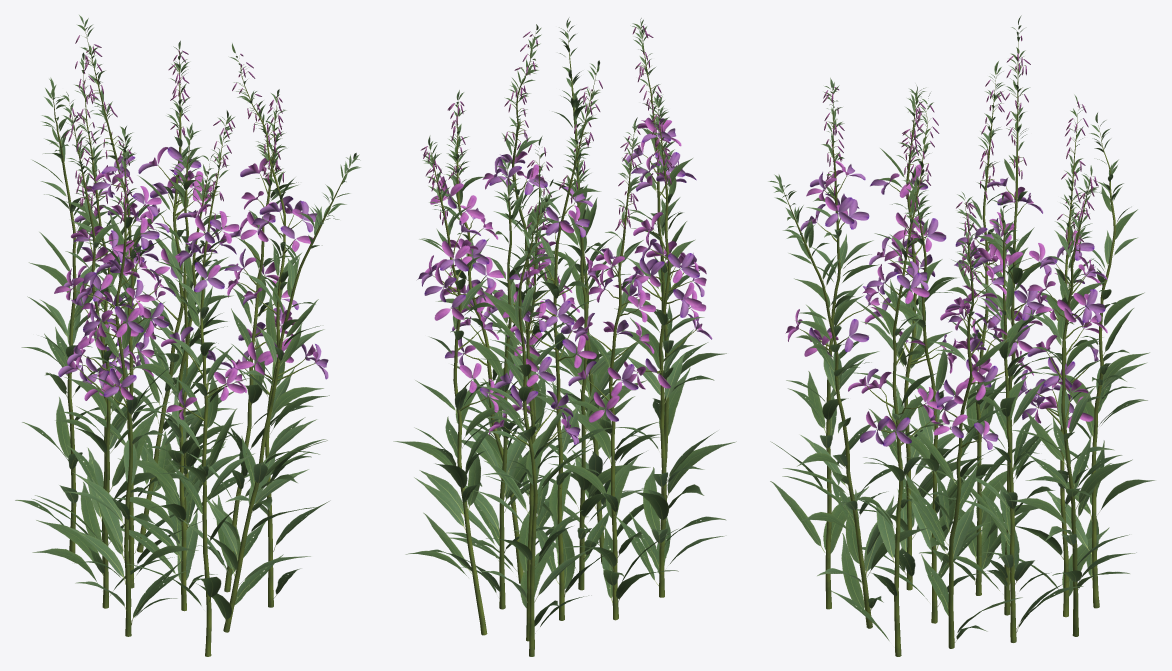
Rendered from fireweed.glb.
3 renders of one model, left to right at view 1: azimuth 30°, elevation 25°; view 2: azimuth 150°, elevation 25°; view 3: azimuth 270°, elevation 25°, orthographic.
Parts seen in each view (by area): view 1: Leaf3_EpilobiumAngustifolium_Mat.004, Stem_EpilobiumAngustifolium_Mat.004, Leaf2_EpilobiumAngustifolium_Mat.004, Leaf1_EpilobiumAngustifolium_Mat.004, Petal1_EpilobiumAngustifolium_Mat.003, Petal2_EpilobiumAngustifolium_Mat.003, Blossom_EpilobiumAngustifolium_Mat.003; view 2: Leaf3_EpilobiumAngustifolium_Mat.004, Stem_EpilobiumAngustifolium_Mat.004, Leaf1_EpilobiumAngustifolium_Mat.004, Leaf2_EpilobiumAngustifolium_Mat.004, Petal1_EpilobiumAngustifolium_Mat.003, Petal2_EpilobiumAngustifolium_Mat.003, Blossom_EpilobiumAngustifolium_Mat.003; view 3: Leaf3_EpilobiumAngustifolium_Mat.004, Stem_EpilobiumAngustifolium_Mat.004, Leaf1_EpilobiumAngustifolium_Mat.004, Leaf2_EpilobiumAngustifolium_Mat.004, Petal2_EpilobiumAngustifolium_Mat.003, Petal1_EpilobiumAngustifolium_Mat.003, Blossom_EpilobiumAngustifolium_Mat.003.
Part boxes in pixels (<box>): Leaf3_EpilobiumAngustifolium_Mat.004: <box>27,25,359,623</box>; Stem_EpilobiumAngustifolium_Mat.004: <box>52,26,352,656</box>; Leaf2_EpilobiumAngustifolium_Mat.004: <box>40,15,360,610</box>; Leaf1_EpilobiumAngustifolium_Mat.004: <box>15,24,360,625</box>; Petal1_EpilobiumAngustifolium_Mat.003: <box>54,147,318,419</box>; Petal2_EpilobiumAngustifolium_Mat.003: <box>58,147,328,406</box>; Blossom_EpilobiumAngustifolium_Mat.003: <box>64,35,283,229</box>; Leaf3_EpilobiumAngustifolium_Mat.004: <box>393,23,736,626</box>; Stem_EpilobiumAngustifolium_Mat.004: <box>429,26,696,656</box>; Leaf1_EpilobiumAngustifolium_Mat.004: <box>414,19,726,633</box>; Leaf2_EpilobiumAngustifolium_Mat.004: <box>414,17,724,602</box>; Petal1_EpilobiumAngustifolium_Mat.003: <box>425,117,706,435</box>; Petal2_EpilobiumAngustifolium_Mat.003: <box>417,118,712,444</box>; Blossom_EpilobiumAngustifolium_Mat.003: <box>420,26,672,285</box>; Leaf3_EpilobiumAngustifolium_Mat.004: <box>770,27,1155,632</box>; Stem_EpilobiumAngustifolium_Mat.004: <box>782,37,1115,656</box>; Leaf1_EpilobiumAngustifolium_Mat.004: <box>768,31,1147,643</box>; Leaf2_EpilobiumAngustifolium_Mat.004: <box>772,15,1147,607</box>; Petal2_EpilobiumAngustifolium_Mat.003: <box>800,164,1107,449</box>; Petal1_EpilobiumAngustifolium_Mat.003: <box>785,160,1107,436</box>; Blossom_EpilobiumAngustifolium_Mat.003: <box>822,36,1098,284</box>.
Bounding box in the file's own units: 0.5167 × 1.09 × 0.6671.
Materials: 7 (7 with a texture image).
